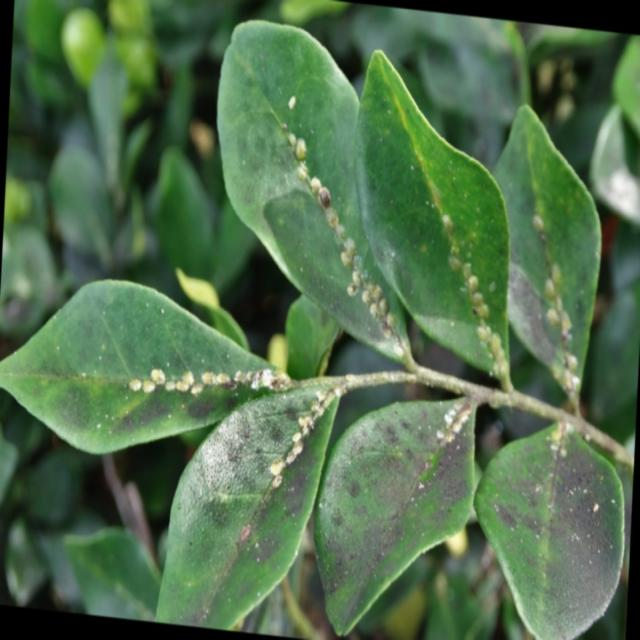Sooty Mold: (2, 16, 630, 636)
